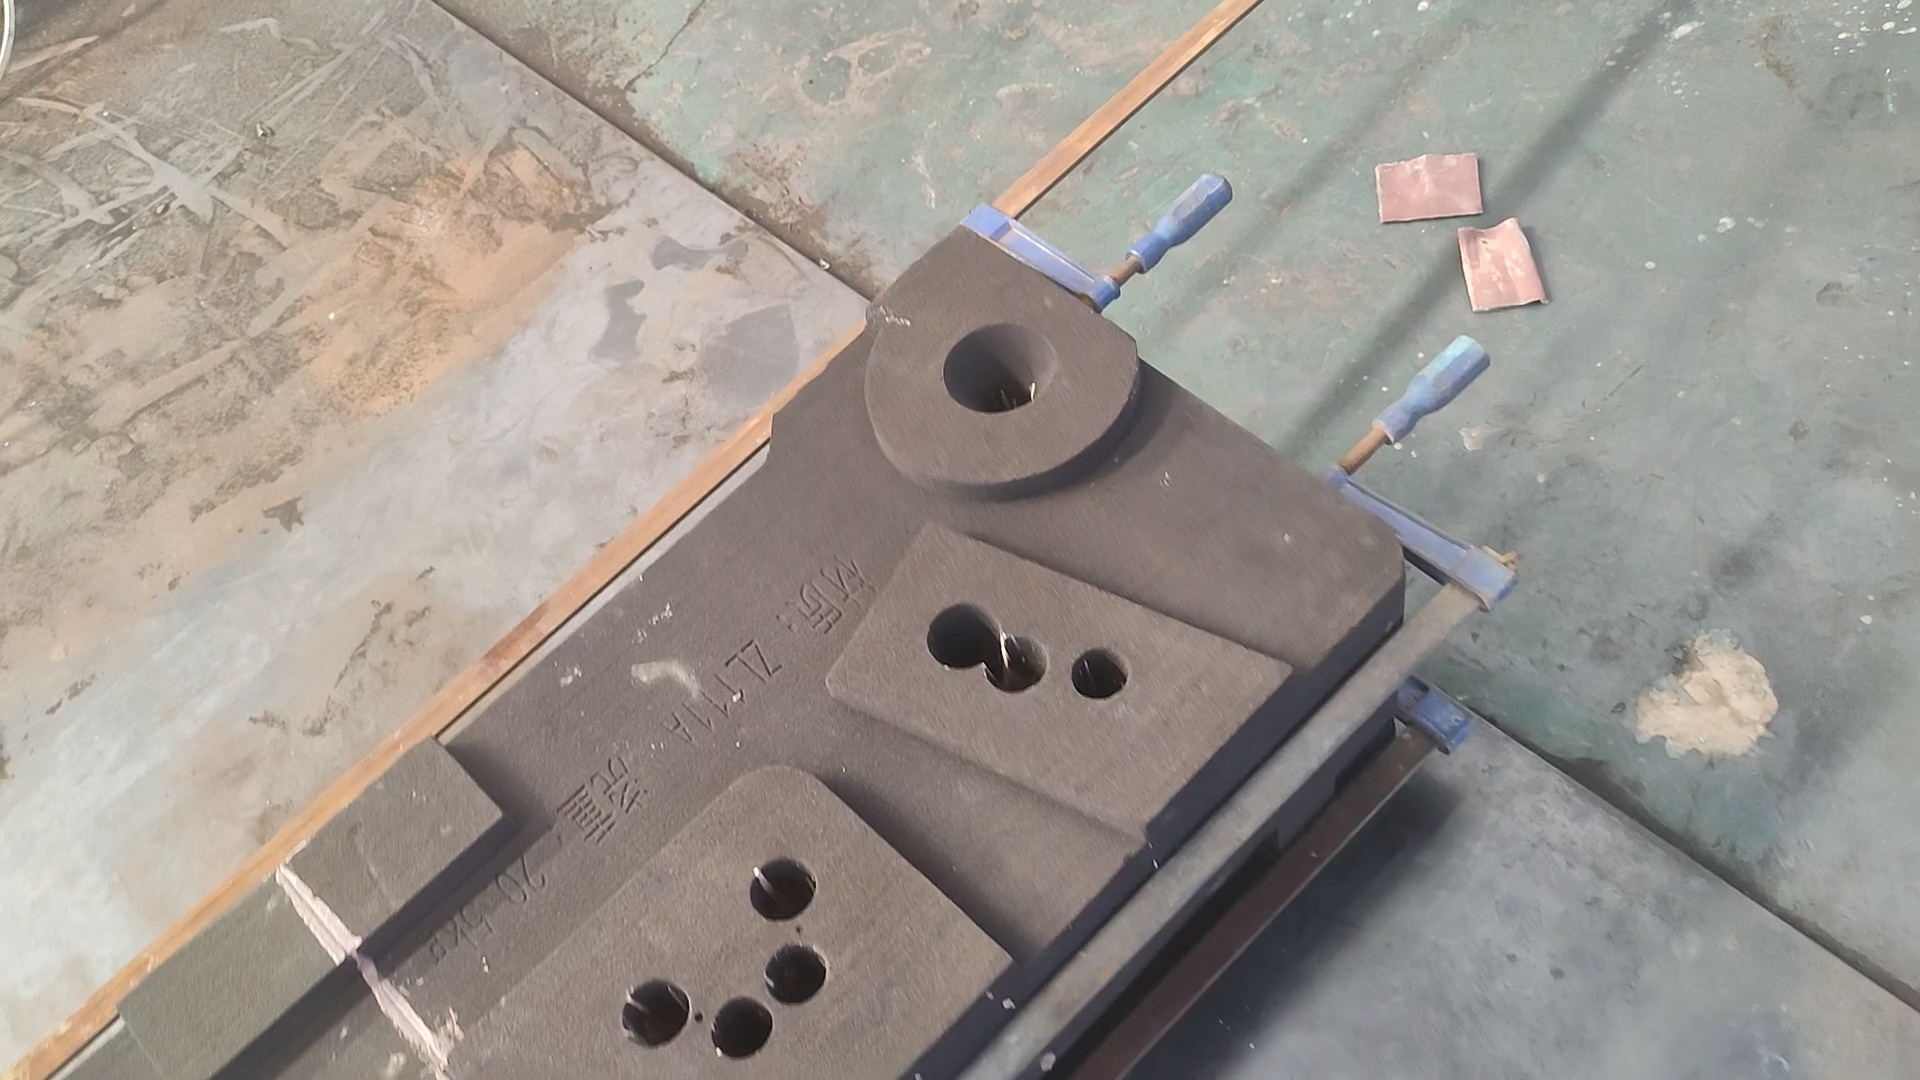pouring hole: (943, 323, 1058, 414)
